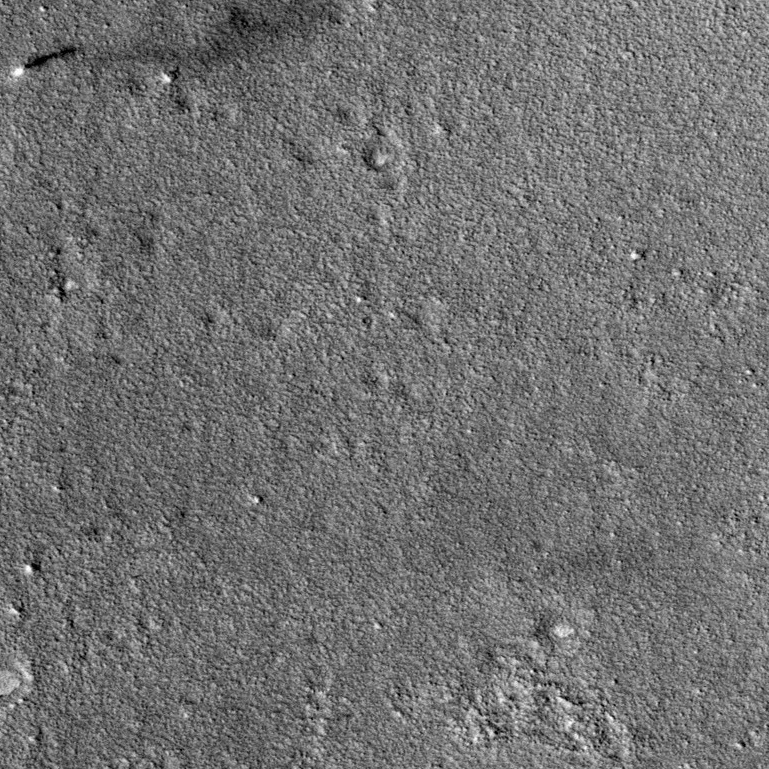dust_devil: (7, 40, 85, 79)
